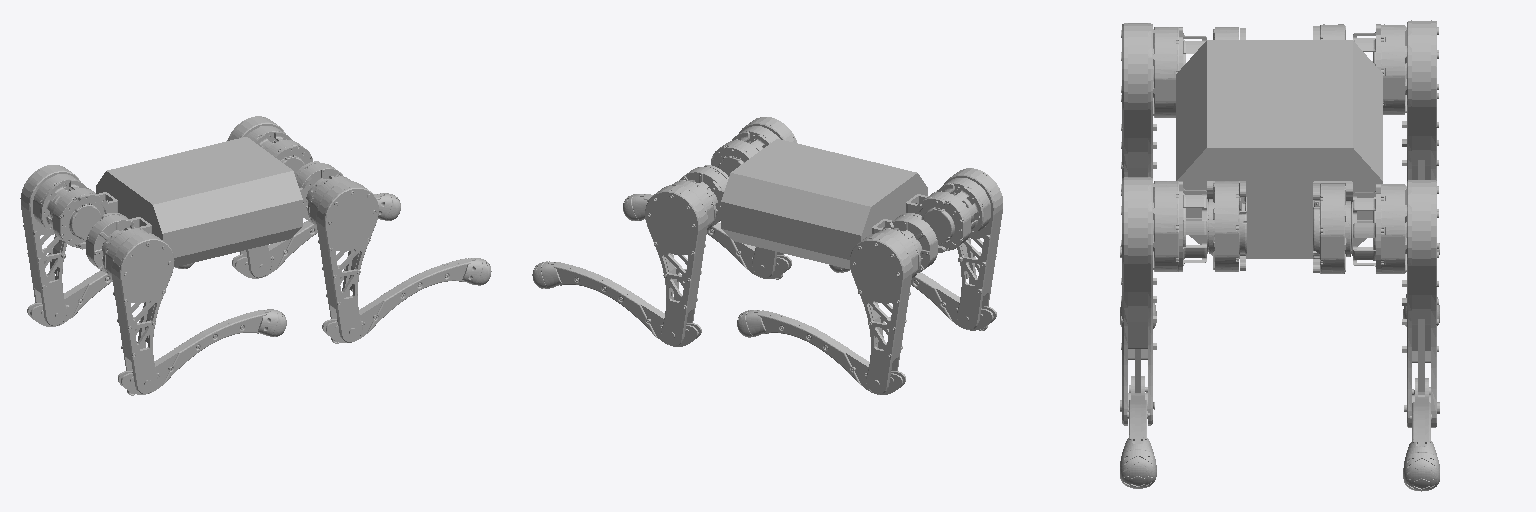
The robot description file, URDF, robot "wdblh_v5":
<?xml version='1.0' encoding='utf-8'?>
<robot name="wdblh_v5">
  <link name="base_link">
    <inertial>
      <origin xyz="0 0 0.0023073" rpy="0 0 0" />
      <mass value="7.5228" />
      <inertia ixx="0.0349" ixy="0" ixz="0" iyy="0.0551" iyz="0" izz="0.0712" />
    </inertial>
    <visual>
      <origin xyz="0 0 0" rpy="0 0 0" />
      <geometry>
        <mesh filename="../meshes/base_link.STL" />
      </geometry>
      <material name="">
        <color rgba="0.752941176470588 0.752941176470588 0.752941176470588 1" />
      </material>
    </visual>
        <collision>
      <origin xyz="0 0 0" rpy="0 0 0" />
      <geometry>
        <box size="0.3762 0.0935 0.114" />
      </geometry>
    </collision>
  </link>
  <link name="FL_hip">
    <inertial>
      <origin xyz="-0.0063 0.0008 0.0002" rpy="0 0 0" />
      <mass value="0.652" />
      <inertia ixx="0.0004" ixy="0" ixz="0" iyy="0.0009" iyz="0" izz="0.0006" />
    </inertial>
    <visual>
      <origin xyz="0 0 0" rpy="0 0 0" />
      <geometry>
        <mesh filename="../meshes/FL_hip.STL" />
      </geometry>
      <material name="">
        <color rgba="0.752941176470588 0.752941176470588 0.752941176470588 1" />
      </material>
    </visual>
        <collision>
      <origin xyz="0 0.08 0" rpy="1.5708 0 0" />
      <geometry>
        <cylinder radius="0.05" length="0.045" />
      </geometry>
    </collision>
  </link>
  <joint name="FL_hip_joint" type="revolute">
    <origin xyz="0.19656 0.05655 0" rpy="0 0 0" />
    <parent link="base_link" />
    <child link="FL_hip" />
    <axis xyz="1 0 0" />
    <limit lower="-1.0472" upper="1.0472" effort="23" velocity="30.1" />
  </joint>
  <link name="FL_thigh">
    <inertial>
      <origin xyz="-0.0021 0.0163 -0.0244" rpy="0 0 0" />
      <mass value="1.2195" />
      <inertia ixx="0.006" ixy="0.0001" ixz="-0.0002" iyy="0.0059" iyz="0.0009" izz="0.0017" />
    </inertial>
    <visual>
      <origin xyz="0 0 0" rpy="0 0 0" />
      <geometry>
        <mesh filename="../meshes/FL_thigh.STL" />
      </geometry>
      <material name="">
        <color rgba="0.752941176470588 0.752941176470588 0.752941176470588 1" />
      </material>
    </visual>
        <collision>
      <origin xyz="-0.01 0.029 -0.126" rpy="0 1.5708 0" />
      <geometry>
        <box size="0.12 0.035 0.04" />
      </geometry>
    </collision>
  </link>
  <joint name="FL_thigh_joint" type="revolute">
    <origin xyz="0 0.0643 0" rpy="0 0 0" />
    <parent link="FL_hip" />
    <child link="FL_thigh" />
    <axis xyz="0 1 0" />
    <limit lower="-1.5708" upper="3.4907" effort="23" velocity="30.1" />
  </joint>
  <link name="FL_calf">
    <inertial>
      <origin xyz="0.0066 0 -0.0788" rpy="0 0 0" />
      <mass value="0.3308" />
      <inertia ixx="0.0042" ixy="0" ixz="0.0003" iyy="0.0042" iyz="0" izz="0.0001" />
    </inertial>
    <visual>
      <origin xyz="0 0 0" rpy="0 0 0" />
      <geometry>
        <mesh filename="../meshes/FL_calf.STL" />
      </geometry>
      <material name="">
        <color rgba="0.752941176470588 0.752941176470588 0.752941176470588 1" />
      </material>
    </visual>
        <collision>
      <origin xyz="0.01 0 -0.13" rpy="0 0 0" />
      <geometry>
        <box size="0.04 0.02 0.18" />
      </geometry>
    </collision>
  </link>
  <joint name="FL_calf_joint" type="revolute">
    <origin xyz="0 0.02965 -0.21" rpy="0 0 0" />
    <parent link="FL_thigh" />
    <child link="FL_calf" />
    <axis xyz="0 1 0" />
    <limit lower="-2.7227" upper="-0.83776" effort="23" velocity="30.1" />
  </joint>
  <link name="FL_foot">
    <inertial>
      <origin xyz="-0.0066769 0.0002514 -0.009321" rpy="0 0 0" />
      <mass value="0.0545057" />
      <inertia ixx="0.000009" ixy="0" ixz="-0.0000017" iyy="0.0000087" iyz="0" izz="0.00001" />
    </inertial>
    <visual>
      <origin xyz="0 0 0" rpy="0 0 0" />
      <geometry>
        <mesh filename="../meshes/FL_foot.STL" />
      </geometry>
      <material name="">
        <color rgba="0.752941176470588 0.752941176470588 0.752941176470588 1" />
      </material>
    </visual>
        <collision>
      <origin xyz="-0.01 0 -0.008" rpy="0 0 0" />
      <geometry>
        <sphere radius="0.022" />
      </geometry>
    </collision>
  </link>
  <joint name="FL_foot_joint" type="fixed" dont_collapse="true">
    <origin xyz="3.6204E-05 0 -0.24186" rpy="0 0 0" />
    <parent link="FL_calf" />
    <child link="FL_foot" />
    <axis xyz="0 0 0" />
  </joint>
  <link name="FR_hip">
    <inertial>
      <origin xyz="-0.0063 -0.0008 -0.0002" rpy="0 0 0" />
      <mass value="0.652" />
      <inertia ixx="0.0004" ixy="0" ixz="0" iyy="0.0009" iyz="0" izz="0.0006" />
    </inertial>
    <visual>
      <origin xyz="0 0 0" rpy="0 0 0" />
      <geometry>
        <mesh filename="../meshes/FR_hip.STL" />
      </geometry>
      <material name="">
        <color rgba="0.752941176470588 0.752941176470588 0.752941176470588 1" />
      </material>
    </visual>
        <collision>
      <origin xyz="0 -0.08 0" rpy="1.5708 0 0" />
      <geometry>
        <cylinder radius="0.05" length="0.045" />
      </geometry>
    </collision>
  </link>
  <joint name="FR_hip_joint" type="revolute">
    <origin xyz="0.19656 -0.05655 0.0030003" rpy="0 0 0" />
    <parent link="base_link" />
    <child link="FR_hip" />
    <axis xyz="1 0 0" />
    <limit lower="-1.0472" upper="1.0472" effort="23" velocity="30.1" />
  </joint>
  <link name="FR_thigh">
    <inertial>
      <origin xyz="-0.0022 -0.0163 -0.0247" rpy="0 0 0" />
      <mass value="1.2195" />
      <inertia ixx="0.0061" ixy="-0.0001" ixz="-0.0003" iyy="0.006" iyz="-0.0009" izz="0.0017" />
    </inertial>
    <visual>
      <origin xyz="0 0 0" rpy="0 0 0" />
      <geometry>
        <mesh filename="../meshes/FR_thigh.STL" />
      </geometry>
      <material name="">
        <color rgba="0.752941176470588 0.752941176470588 0.752941176470588 1" />
      </material>
    </visual>
        <collision>
      <origin xyz="-0.01 -0.029 -0.126" rpy="0 1.5708 0" />
      <geometry>
        <box size="0.12 0.035 0.04" />
      </geometry>
    </collision>
  </link>
  <joint name="FR_thigh_joint" type="revolute">
    <origin xyz="0 -0.0643 0" rpy="0 0 0" />
    <parent link="FR_hip" />
    <child link="FR_thigh" />
    <axis xyz="0 1 0" />
    <limit lower="-1.5708" upper="3.4907" effort="23" velocity="30.1" />
  </joint>
  <link name="FR_calf">
    <inertial>
      <origin xyz="0.0066 0 -0.0788" rpy="0 0 0" />
      <mass value="0.3308" />
      <inertia ixx="0.0042" ixy="0" ixz="0.0003" iyy="0.0042" iyz="0" izz="0.0001" />
    </inertial>
    <visual>
      <origin xyz="0 0 0" rpy="0 0 0" />
      <geometry>
        <mesh filename="../meshes/FR_calf.STL" />
      </geometry>
      <material name="">
        <color rgba="0.752941176470588 0.752941176470588 0.752941176470588 1" />
      </material>
    </visual>
        <collision>
      <origin xyz="0.01 0 -0.13" rpy="0 0 0" />
      <geometry>
        <box size="0.04 0.02 0.18" />
      </geometry>
    </collision>
  </link>
  <joint name="FR_calf_joint" type="revolute">
    <origin xyz="0 -0.02965 -0.21" rpy="0 0 0" />
    <parent link="FR_thigh" />
    <child link="FR_calf" />
    <axis xyz="0 1 0" />
    <limit lower="-2.7227" upper="-0.83776" effort="23" velocity="30.1" />
  </joint>
  <link name="FR_foot">
    <inertial>
      <origin xyz="-0.0066765 0.0002514 -0.0063205" rpy="0 0 0" />
      <mass value="0.054506" />
      <inertia ixx="0.000009" ixy="0" ixz="-0.0000017" iyy="0.0000087" iyz="0" izz="0.00001" />
    </inertial>
    <visual>
      <origin xyz="0 0 0" rpy="0 0 0" />
      <geometry>
        <mesh filename="../meshes/FR_foot.STL" />
      </geometry>
      <material name="">
        <color rgba="0.752941176470588 0.752941176470588 0.752941176470588 1" />
      </material>
    </visual>
        <collision>
      <origin xyz="-0.01 0 -0.008" rpy="0 0 0" />
      <geometry>
        <sphere radius="0.022" />
      </geometry>
    </collision>
  </link>
  <joint name="FR_foot_joint" type="fixed" dont_collapse="true">
    <origin xyz="3.5866E-05 0 -0.24486" rpy="0 0 0" />
    <parent link="FR_calf" />
    <child link="FR_foot" />
    <axis xyz="0 0 0" />
  </joint>
  <link name="RL_hip">
    <inertial>
      <origin xyz="0.0063 0.0008 -0.0002" rpy="0 0 0" />
      <mass value="0.652" />
      <inertia ixx="0.0004" ixy="0" ixz="0" iyy="0.0009" iyz="0" izz="0.0006" />
    </inertial>
    <visual>
      <origin xyz="0 0 0" rpy="0 0 0" />
      <geometry>
        <mesh filename="../meshes/RL_hip.STL" />
      </geometry>
      <material name="">
        <color rgba="0.752941176470588 0.752941176470588 0.752941176470588 1" />
      </material>
    </visual>
        <collision>
      <origin xyz="0 0.08 0" rpy="1.5708 0 0" />
      <geometry>
        <cylinder radius="0.05" length="0.045" />
      </geometry>
    </collision>
  </link>
  <joint name="RL_hip_joint" type="revolute">
    <origin xyz="-0.19656 0.05655 0.0030003" rpy="0 0 0" />
    <parent link="base_link" />
    <child link="RL_hip" />
    <axis xyz="1 0 0" />
    <limit lower="-1.0472" upper="1.0472" effort="23" velocity="30.1" />
  </joint>
  <link name="RL_thigh">
    <inertial>
      <origin xyz="-0.0021 0.0163 -0.0244" rpy="0 0 0" />
      <mass value="1.2195" />
      <inertia ixx="0.006" ixy="0.0001" ixz="-0.0002" iyy="0.0059" iyz="0.0009" izz="0.0017" />
    </inertial>
    <visual>
      <origin xyz="0 0 0" rpy="0 0 0" />
      <geometry>
        <mesh filename="../meshes/RL_thigh.STL" />
      </geometry>
      <material name="">
        <color rgba="0.752941176470588 0.752941176470588 0.752941176470588 1" />
      </material>
    </visual>
        <collision>
      <origin xyz="-0.01 0.029 -0.126" rpy="0 1.5708 0" />
      <geometry>
        <box size="0.12 0.035 0.04" />
      </geometry>
    </collision>
  </link>
  <joint name="RL_thigh_joint" type="revolute">
    <origin xyz="0 0.0643 0" rpy="0 0 0" />
    <parent link="RL_hip" />
    <child link="RL_thigh" />
    <axis xyz="0 1 0" />
    <limit lower="-1.5708" upper="3.4907" effort="23" velocity="30.1" />
  </joint>
  <link name="RL_calf">
    <inertial>
      <origin xyz="0.0066 0 -0.0788" rpy="0 0 0" />
      <mass value="0.3308" />
      <inertia ixx="0.0042" ixy="0" ixz="0.0003" iyy="0.0042" iyz="0" izz="0.0001" />
    </inertial>
    <visual>
      <origin xyz="0 0 0" rpy="0 0 0" />
      <geometry>
        <mesh filename="../meshes/RL_calf.STL" />
      </geometry>
      <material name="">
        <color rgba="0.752941176470588 0.752941176470588 0.752941176470588 1" />
      </material>
    </visual>
        <collision>
      <origin xyz="0.01 0 -0.13" rpy="0 0 0" />
      <geometry>
        <box size="0.04 0.02 0.18" />
      </geometry>
    </collision>
  </link>
  <joint name="RL_calf_joint" type="revolute">
    <origin xyz="0 0.02965 -0.21" rpy="0 0 0" />
    <parent link="RL_thigh" />
    <child link="RL_calf" />
    <axis xyz="0 1 0" />
    <limit lower="-2.7227" upper="-0.83776" effort="23" velocity="30.1" />
  </joint>
  <link name="RL_foot">
    <inertial>
      <origin xyz="-0.0066769 0.0002514 -0.009321" rpy="0 0 0" />
      <mass value="0.0545057" />
      <inertia ixx="0.000009" ixy="0" ixz="-0.0000017" iyy="0.0000087" iyz="0" izz="0.00001" />
    </inertial>
    <visual>
      <origin xyz="0 0 0" rpy="0 0 0" />
      <geometry>
        <mesh filename="../meshes/RL_foot.STL" />
      </geometry>
      <material name="">
        <color rgba="0.752941176470588 0.752941176470588 0.752941176470588 1" />
      </material>
    </visual>
        <collision>
      <origin xyz="-0.01 0 -0.008" rpy="0 0 0" />
      <geometry>
        <sphere radius="0.022" />
      </geometry>
    </collision>
  </link>
  <joint name="RL_foot_joint" type="fixed" dont_collapse="true">
    <origin xyz="3.6204E-05 0 -0.24186" rpy="0 0 0" />
    <parent link="RL_calf" />
    <child link="RL_foot" />
    <axis xyz="0 0 0" />
  </joint>
  <link name="RR_hip">
    <inertial>
      <origin xyz="0.0063 -0.0008 0.0002" rpy="0 0 0" />
      <mass value="0.652" />
      <inertia ixx="0.0004" ixy="0" ixz="0" iyy="0.0009" iyz="0" izz="0.0006" />
    </inertial>
    <visual>
      <origin xyz="0 0 0" rpy="0 0 0" />
      <geometry>
        <mesh filename="../meshes/RR_hip.STL" />
      </geometry>
      <material name="">
        <color rgba="0.752941176470588 0.752941176470588 0.752941176470588 1" />
      </material>
    </visual>
        <collision>
      <origin xyz="0 -0.08 0" rpy="1.5708 0 0" />
      <geometry>
        <cylinder radius="0.05" length="0.045" />
      </geometry>
    </collision>
  </link>
  <joint name="RR_hip_joint" type="revolute">
    <origin xyz="-0.19656 -0.05655 0" rpy="0 0 0" />
    <parent link="base_link" />
    <child link="RR_hip" />
    <axis xyz="1 0 0" />
    <limit lower="-1.0472" upper="1.0472" effort="23" velocity="30.1" />
  </joint>
  <link name="RR_thigh">
    <inertial>
      <origin xyz="-0.0022 -0.0163 -0.0247" rpy="0 0 0" />
      <mass value="1.2195" />
      <inertia ixx="0.0061" ixy="-0.0001" ixz="-0.0003" iyy="0.006" iyz="-0.0009" izz="0.0017" />
    </inertial>
    <visual>
      <origin xyz="0 0 0" rpy="0 0 0" />
      <geometry>
        <mesh filename="../meshes/RR_thigh.STL" />
      </geometry>
      <material name="">
        <color rgba="0.752941176470588 0.752941176470588 0.752941176470588 1" />
      </material>
    </visual>
        <collision>
      <origin xyz="-0.01 -0.029 -0.126" rpy="0 1.5708 0" />
      <geometry>
        <box size="0.12 0.035 0.04" />
      </geometry>
    </collision>
  </link>
  <joint name="RR_thigh_joint" type="revolute">
    <origin xyz="0 -0.0643 0" rpy="0 0 0" />
    <parent link="RR_hip" />
    <child link="RR_thigh" />
    <axis xyz="0 1 0" />
    <limit lower="-1.5708" upper="3.4907" effort="23" velocity="30.1" />
  </joint>
  <link name="RR_calf">
    <inertial>
      <origin xyz="0.0066 0 -0.0788" rpy="0 0 0" />
      <mass value="0.3308" />
      <inertia ixx="0.0042" ixy="0" ixz="0.0003" iyy="0.0042" iyz="0" izz="0.0001" />
    </inertial>
    <visual>
      <origin xyz="0 0 0" rpy="0 0 0" />
      <geometry>
        <mesh filename="../meshes/RR_calf.STL" />
      </geometry>
      <material name="">
        <color rgba="0.752941176470588 0.752941176470588 0.752941176470588 1" />
      </material>
    </visual>
        <collision>
      <origin xyz="0.01 0 -0.13" rpy="0 0 0" />
      <geometry>
        <box size="0.04 0.02 0.18" />
      </geometry>
    </collision>
  </link>
  <joint name="RR_calf_joint" type="revolute">
    <origin xyz="0 -0.02965 -0.21" rpy="0 0 0" />
    <parent link="RR_thigh" />
    <child link="RR_calf" />
    <axis xyz="0 1 0" />
    <limit lower="-2.7227" upper="-0.83776" effort="23" velocity="30.1" />
  </joint>
  <link name="RR_foot">
    <inertial>
      <origin xyz="-0.0066766 0.0002514 -0.0123216" rpy="0 0 0" />
      <mass value="0.0545057" />
      <inertia ixx="0.000009" ixy="0" ixz="-0.0000017" iyy="0.0000087" iyz="0" izz="0.00001" />
    </inertial>
    <visual>
      <origin xyz="0 0 0" rpy="0 0 0" />
      <geometry>
        <mesh filename="../meshes/RR_foot.STL" />
      </geometry>
      <material name="">
        <color rgba="0.752941176470588 0.752941176470588 0.752941176470588 1" />
      </material>
    </visual>
        <collision>
      <origin xyz="-0.01 0 -0.008" rpy="0 0 0" />
      <geometry>
        <sphere radius="0.022" />
      </geometry>
    </collision>
  </link>
  <joint name="RR_foot_joint" type="fixed" dont_collapse="true">
    <origin xyz="3.5979E-05 0 -0.23886" rpy="0 0 0" />
    <parent link="RR_calf" />
    <child link="RR_foot" />
    <axis xyz="0 0 0" />
  </joint>
</robot>

--- Facts derived from the render (not from the file) ---
Views: 3 orthographic renders of the robot side by side, from view 1: azimuth 30°, elevation 25°; view 2: azimuth 150°, elevation 25°; view 3: azimuth 270°, elevation 25°.
Model wdblh_v5 with 17 links and 16 joints (12 revolute, 4 fixed), rooted at base_link, posed joints at zero except 4 at the middle of their limits (FL_calf_joint = -1.78, FR_calf_joint = -1.78, RL_calf_joint = -1.78, RR_calf_joint = -1.78).
Links seen in each view (by area): view 1: base_link, RR_thigh, FR_thigh, RL_thigh, RR_calf, FR_calf, RL_hip, FL_thigh, RR_hip, RL_calf, FL_calf, FR_hip (+3 smaller); view 2: base_link, FL_thigh, RL_thigh, RR_thigh, FL_calf, RL_calf, RR_hip, FR_thigh, RR_calf, RL_hip, FR_calf, FR_hip (+3 smaller); view 3: base_link, FR_thigh, FL_thigh, RL_thigh, RR_thigh, FL_hip, FR_hip, FR_foot, FL_foot, FR_calf, FL_calf.
Link boxes in pixels (left/top/right/bottom): base_link: left=96, top=137, right=302, bottom=266; RR_thigh: left=102, top=227, right=174, bottom=395; FR_thigh: left=306, top=176, right=378, bottom=343; RL_thigh: left=20, top=165, right=86, bottom=325; RR_calf: left=118, top=310, right=270, bottom=394; FR_calf: left=322, top=258, right=474, bottom=342; RL_hip: left=52, top=188, right=117, bottom=249; FL_thigh: left=227, top=116, right=292, bottom=277; RR_hip: left=86, top=213, right=151, bottom=272; RL_calf: left=27, top=270, right=112, bottom=326; FL_calf: left=232, top=194, right=384, bottom=278; FR_hip: left=295, top=161, right=342, bottom=222; base_link: left=721, top=139, right=927, bottom=269; FL_thigh: left=645, top=180, right=717, bottom=345; RL_thigh: left=850, top=228, right=922, bottom=394; RR_thigh: left=937, top=168, right=1002, bottom=330; FL_calf: left=548, top=262, right=701, bottom=346; RL_calf: left=753, top=310, right=905, bottom=394; RR_hip: left=906, top=191, right=971, bottom=252; FR_thigh: left=732, top=117, right=796, bottom=279; RR_calf: left=911, top=272, right=996, bottom=330; RL_hip: left=872, top=213, right=937, bottom=272; FR_calf: left=639, top=194, right=791, bottom=278; FR_hip: left=711, top=140, right=761, bottom=176; base_link: left=1176, top=40, right=1382, bottom=258; FR_thigh: left=1121, top=177, right=1206, bottom=425; FL_thigh: left=1353, top=180, right=1438, bottom=427; RL_thigh: left=1353, top=20, right=1438, bottom=180; RR_thigh: left=1121, top=23, right=1206, bottom=195; FL_hip: left=1313, top=181, right=1352, bottom=273; FR_hip: left=1207, top=181, right=1246, bottom=271; FR_foot: left=1120, top=437, right=1156, bottom=488; FL_foot: left=1403, top=441, right=1439, bottom=491; FR_calf: left=1120, top=376, right=1154, bottom=443; FL_calf: left=1404, top=378, right=1439, bottom=446.
Size in the robot's own frame: 0.7175 by 0.3406 by 0.3018 metres.
17 mesh visuals loaded from 17 distinct referenced files (17 binary STL).
